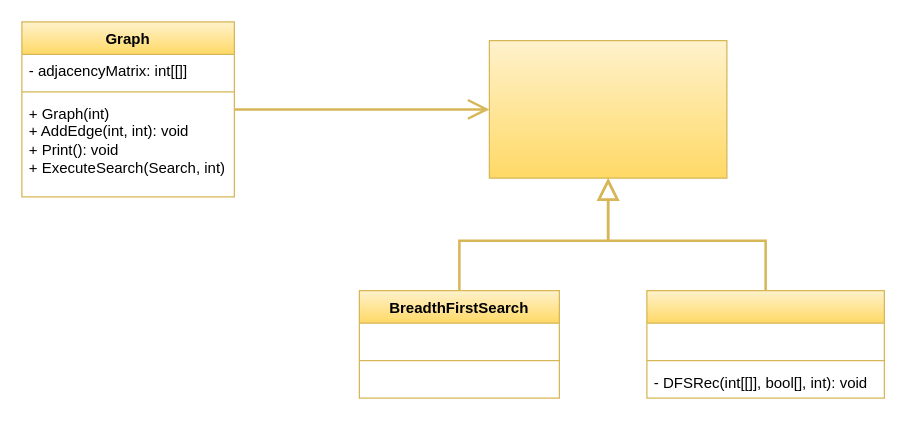
The diagram is 906 pixels wide and 424 high, and some of its shapes have lost their labels. The box of each missing label's shape, as (x1, y1, x2, y2) in pixels:
<<Interface>> Search + Execute(int[[]], int): void: (488, 39, 727, 178)
DepthFirstSearch: (646, 289, 884, 398)
